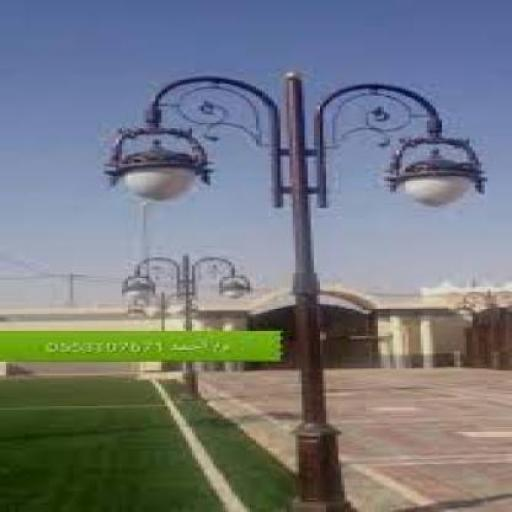street light: (104, 69, 488, 509), (126, 255, 254, 398)
